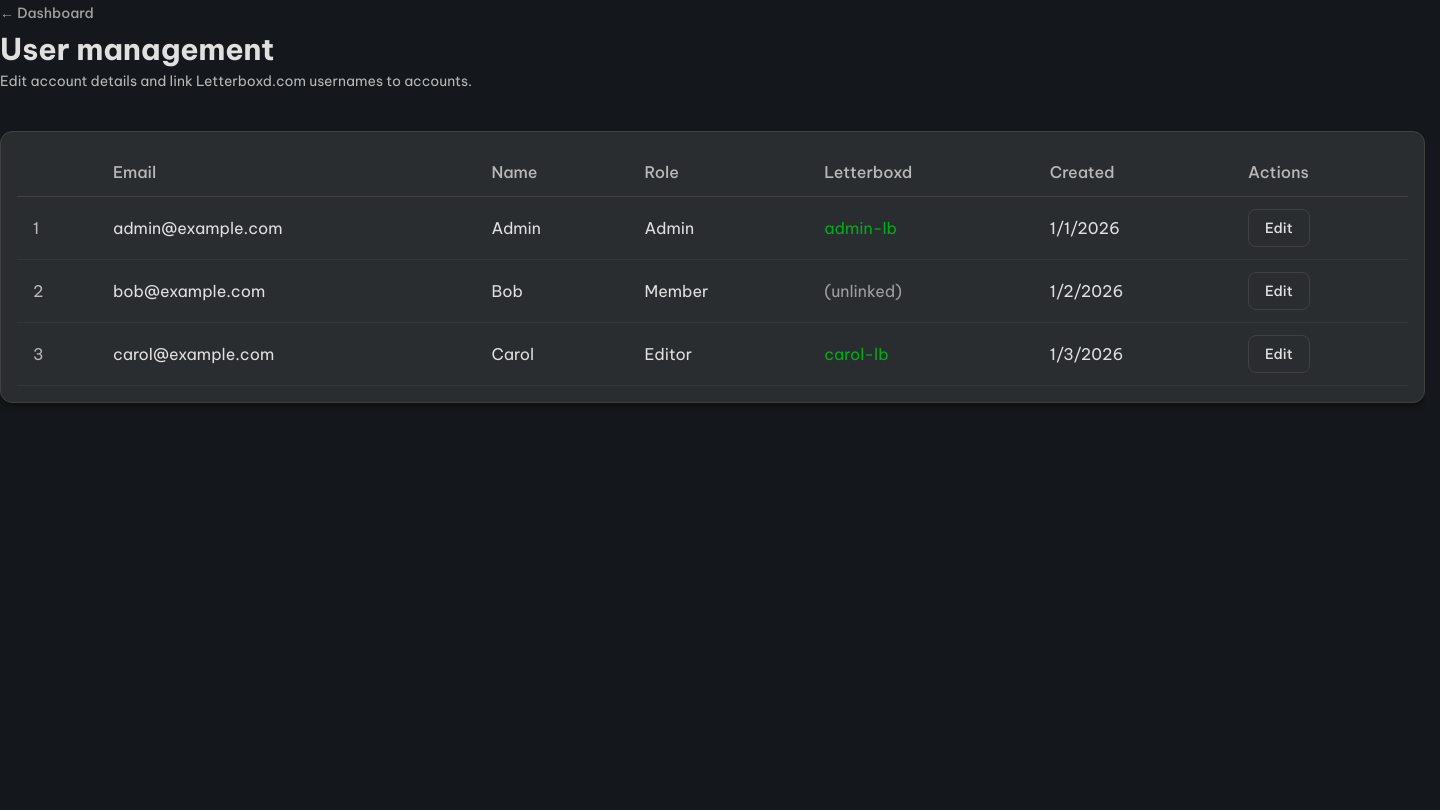
Test: UserAdmin — edit flow › saves name + lbusername changes and patches the row in place
expect the text "bob@example.com" is shown: met, box x1=97 y1=260 x2=475 y2=322
Open the Bob row's edit modal.
Click the button "Edit" in the row of "bob@example.com": (1279, 291) x1=1248 y1=272 x2=1310 y2=310
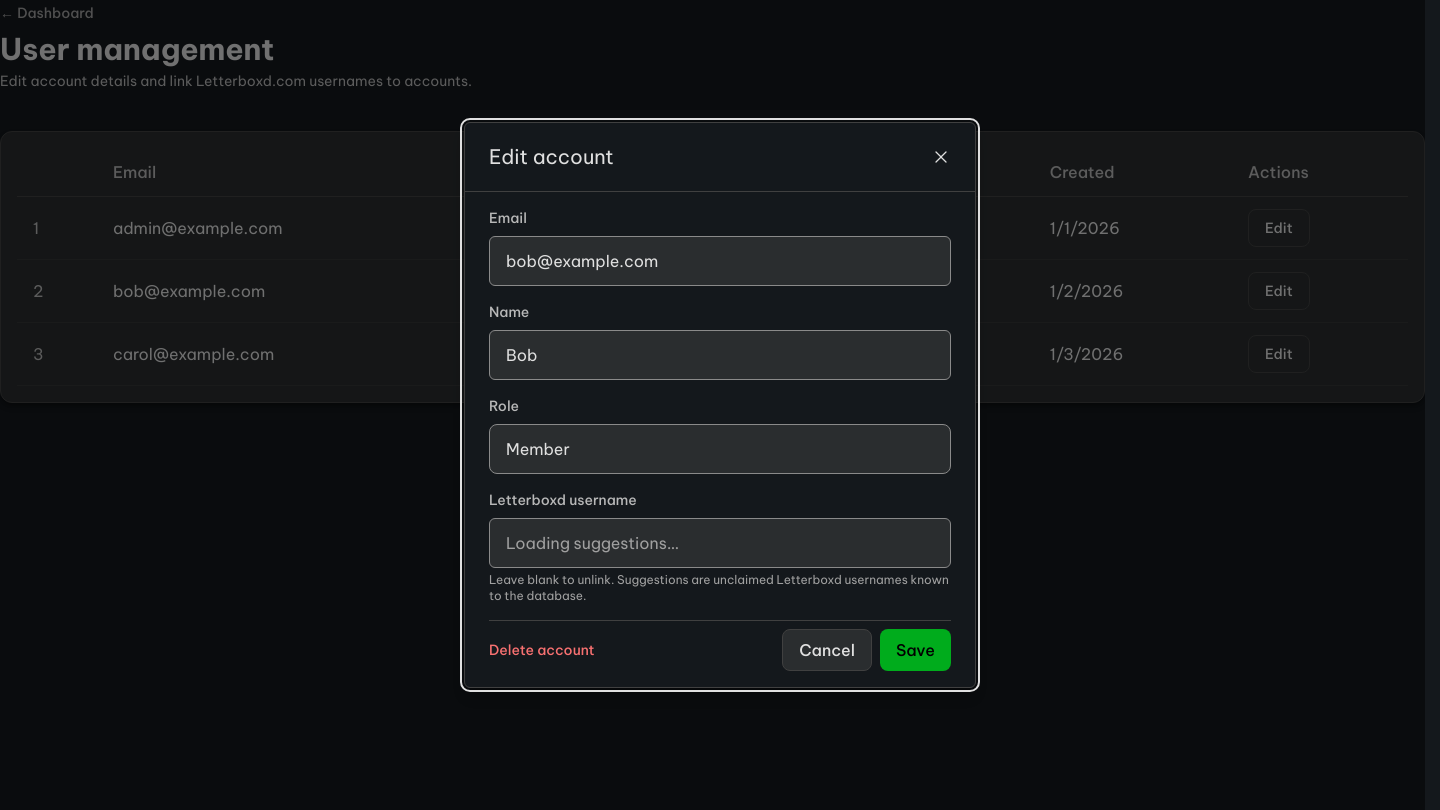
expect the heading "Edit account" is shown: met, box x1=489 y1=143 x2=614 y2=171
Replace the text in the field labelled "Name" with "Bobby": (720, 355) x1=489 y1=330 x2=951 y2=380
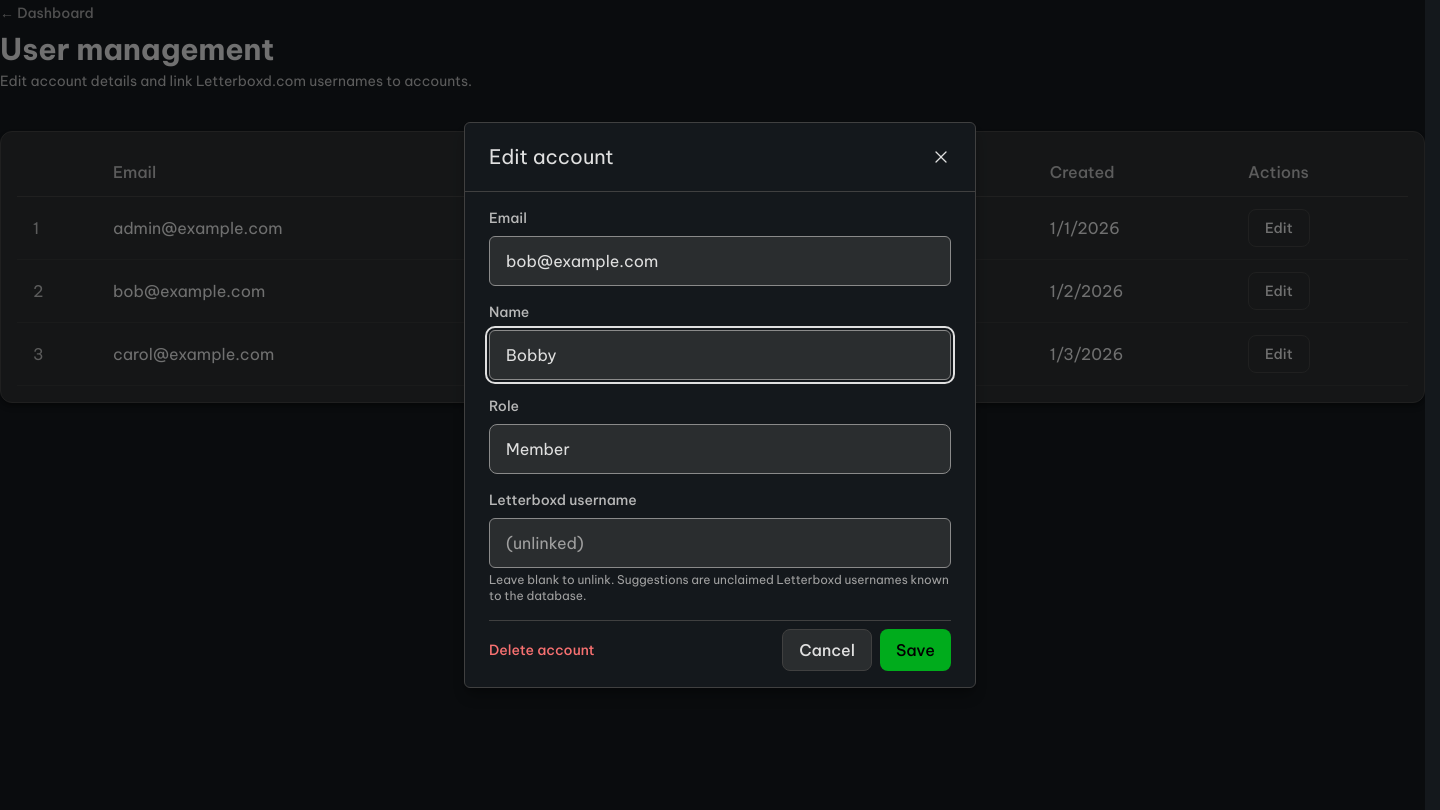
In the field labelled "Letterboxd username": (720, 543) x1=489 y1=518 x2=951 y2=568, type "unclaimed-1"
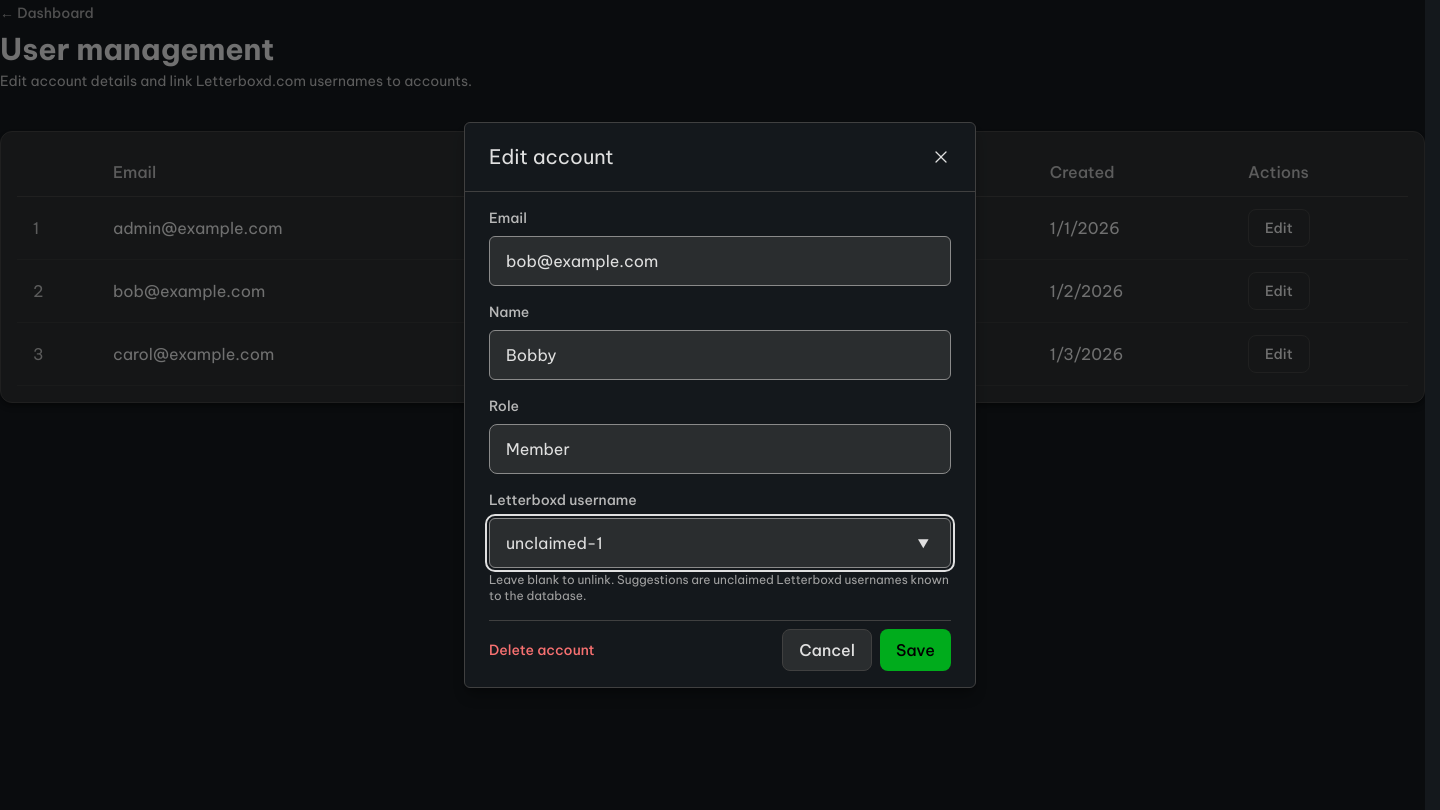
Click the button "Save": (916, 650) x1=880 y1=629 x2=951 y2=671
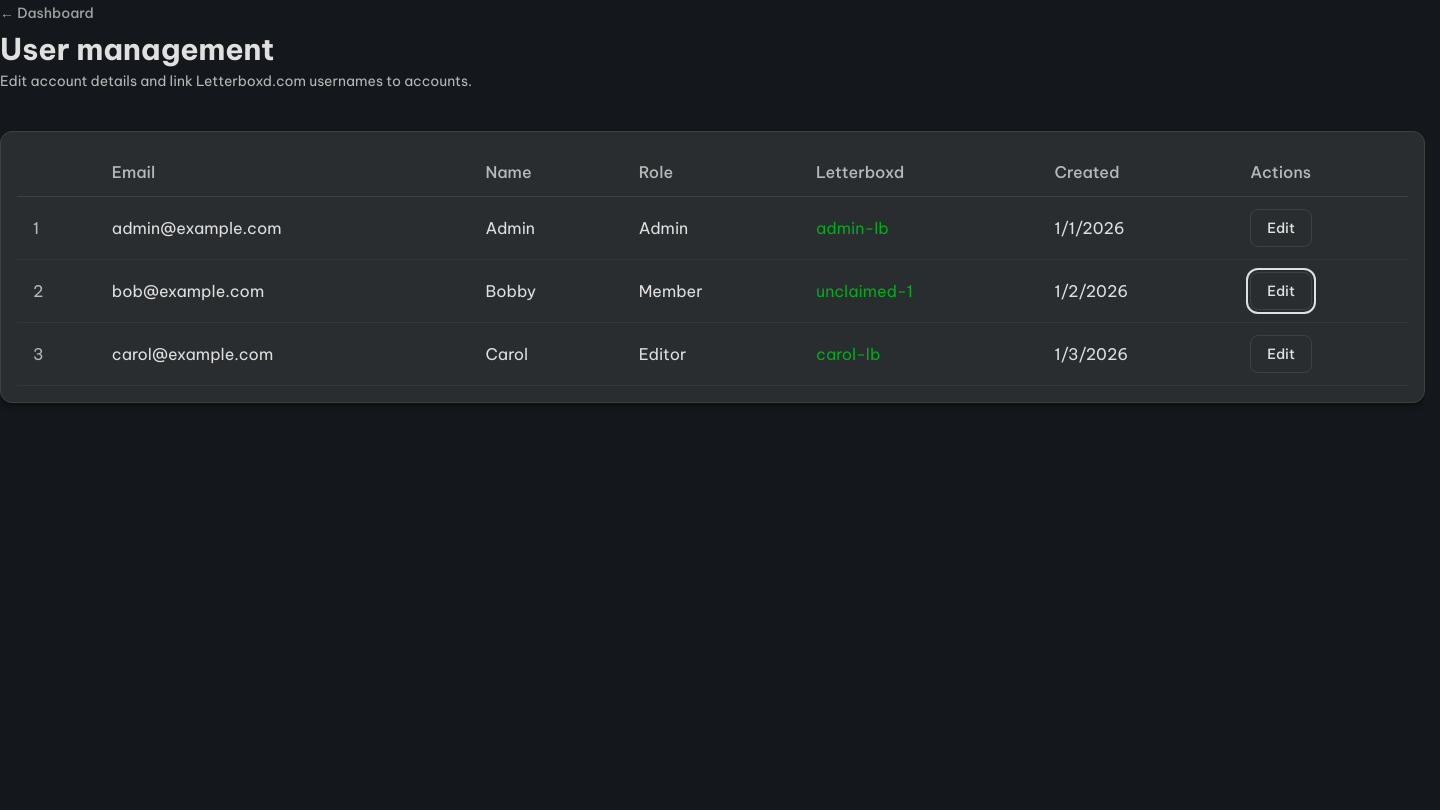
expect the text "Bobby" is shown: met, box x1=470 y1=260 x2=623 y2=322
expect the link "unclaimed-1" is shown: met, box x1=816 y1=281 x2=913 y2=301
